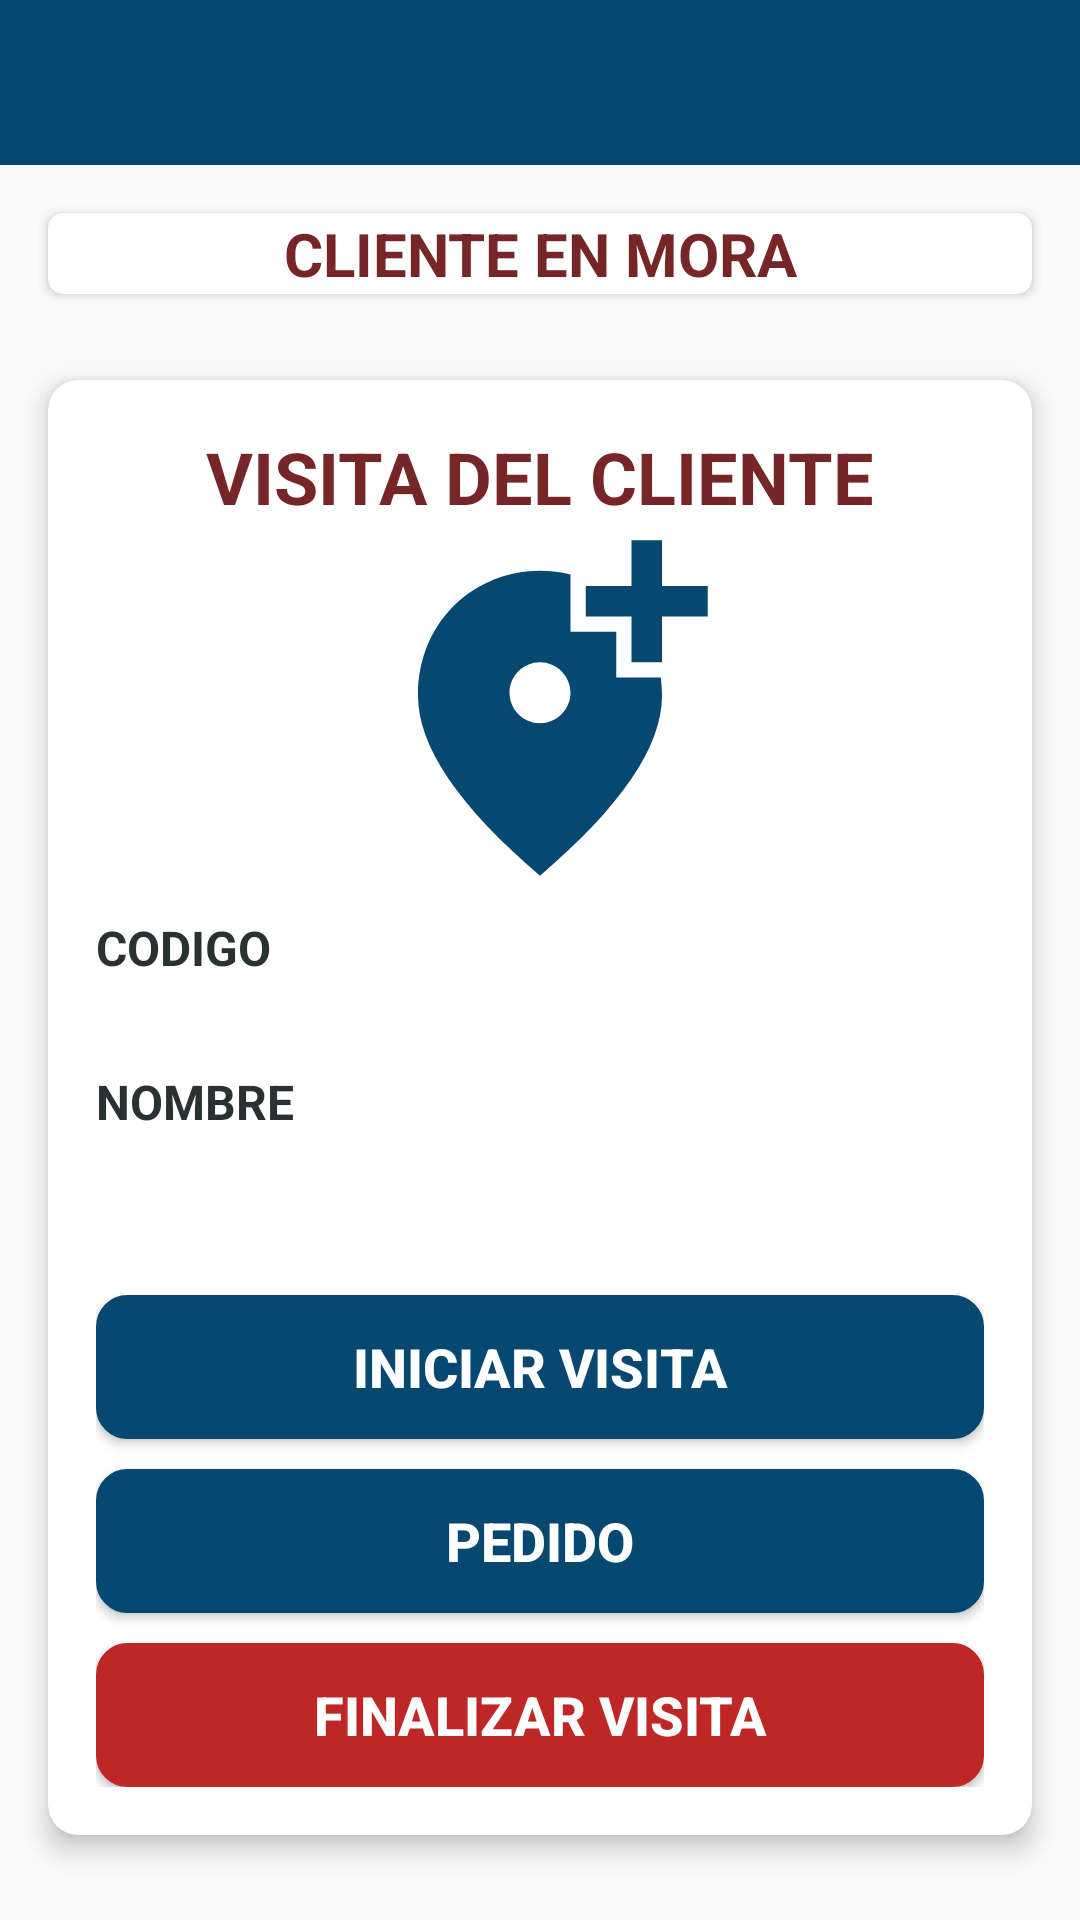

Point at icon controls on the screen. Image size 1080*1920, points as (x,y).
add: (563,708)
